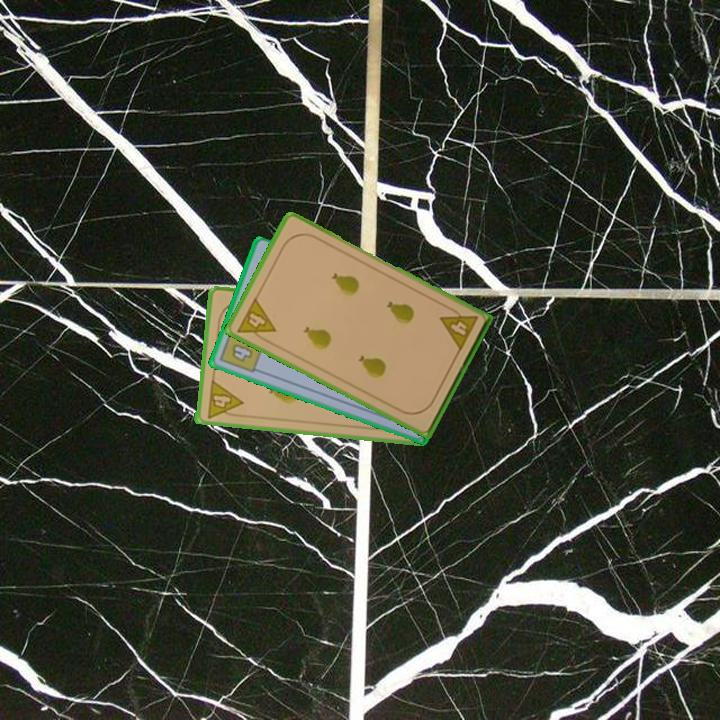4b: (216, 324, 266, 376)
4p: (233, 294, 279, 347), (436, 302, 481, 354), (203, 376, 245, 421)
